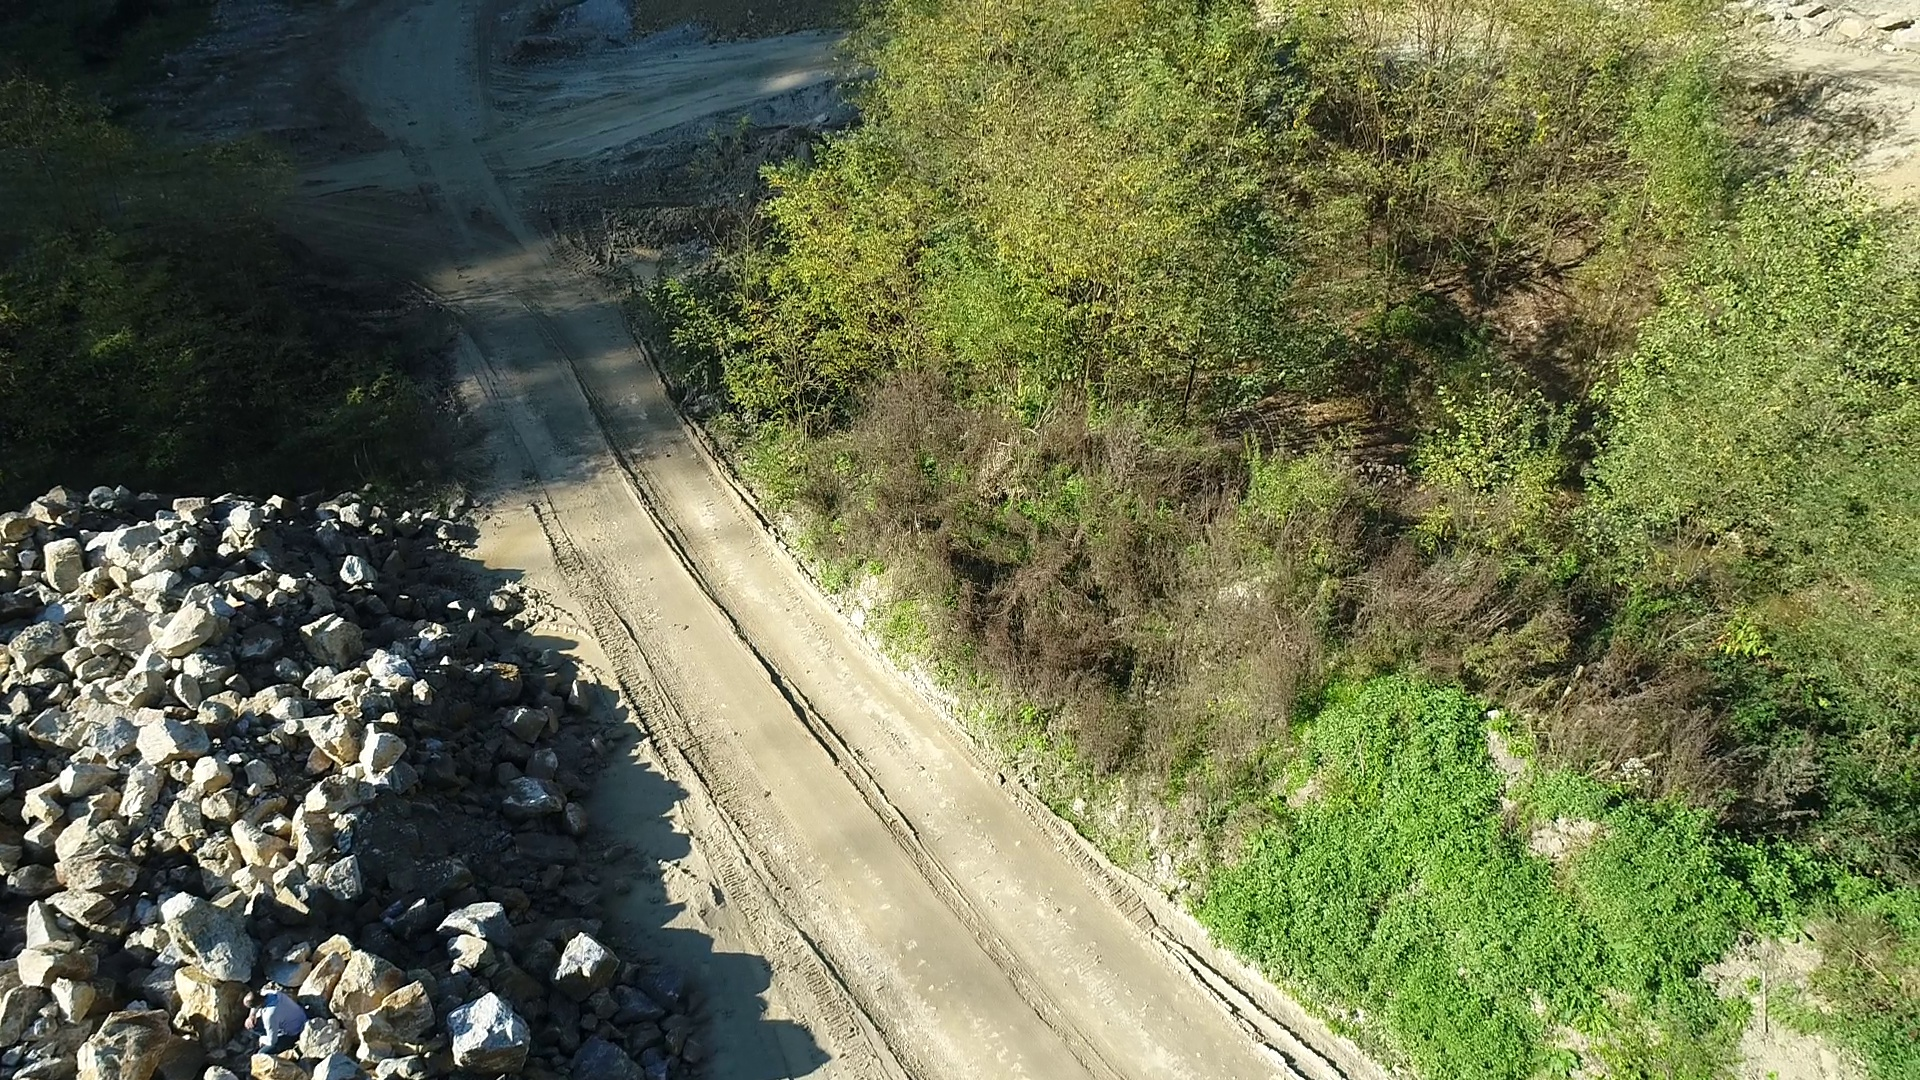person: (243, 986, 309, 1053)
